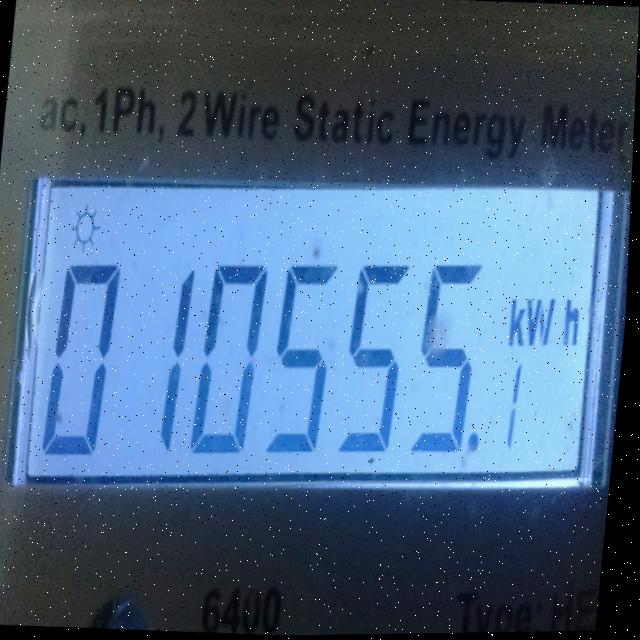.: (472, 435, 484, 453)
0: (48, 265, 122, 460), (197, 264, 270, 457)
1: (164, 271, 193, 450), (511, 368, 523, 448)
5: (273, 267, 338, 454), (418, 263, 482, 451), (346, 267, 410, 451)
